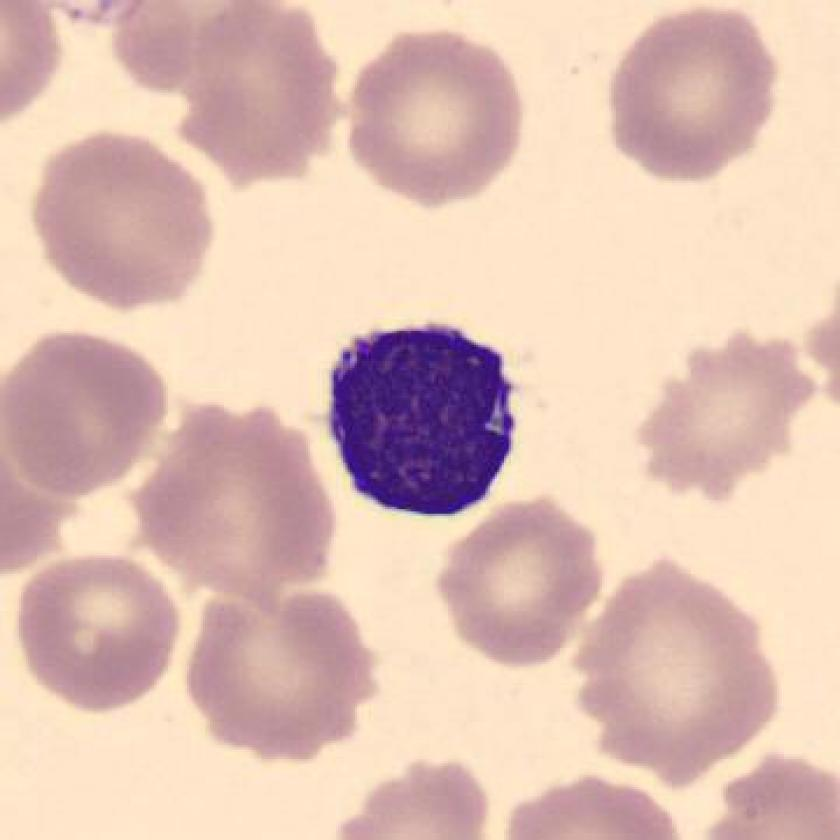lymphocyte: (302, 304, 540, 536)
